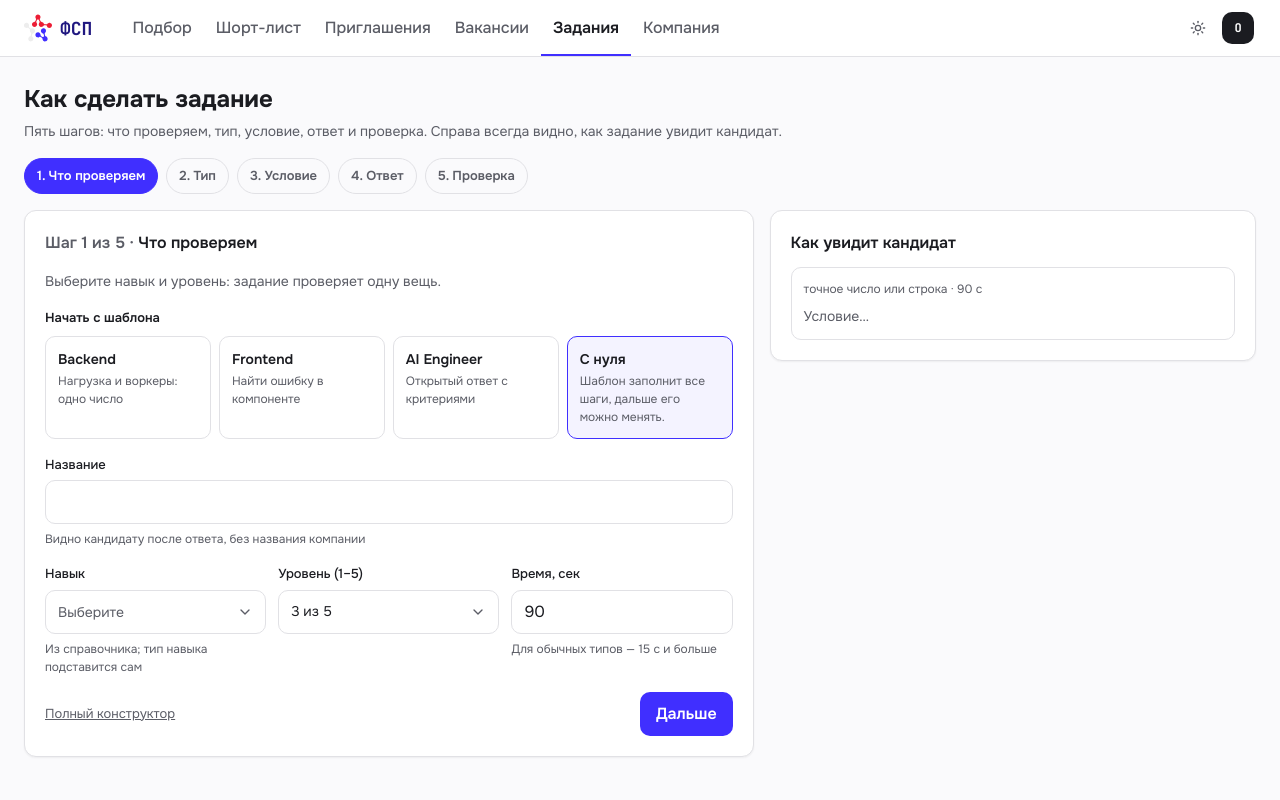
мастер › с нуля: пустое название не пускает дальше шага 1
The width and height of the screenshot is (1280, 800).
Click the button with test id "guide-next" at point(686, 714), box [640,692,733,736]
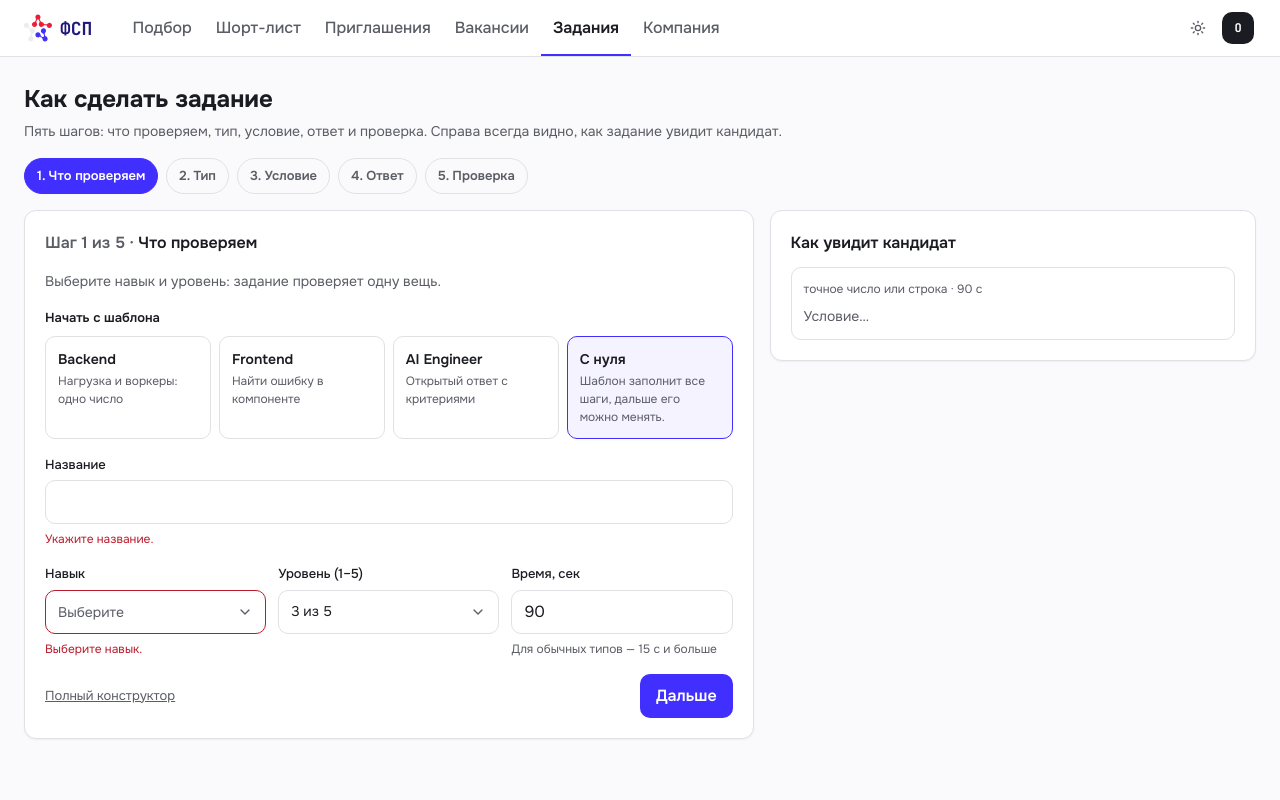
Expected: the text "Укажите название." is shown, [45,531,154,547]
